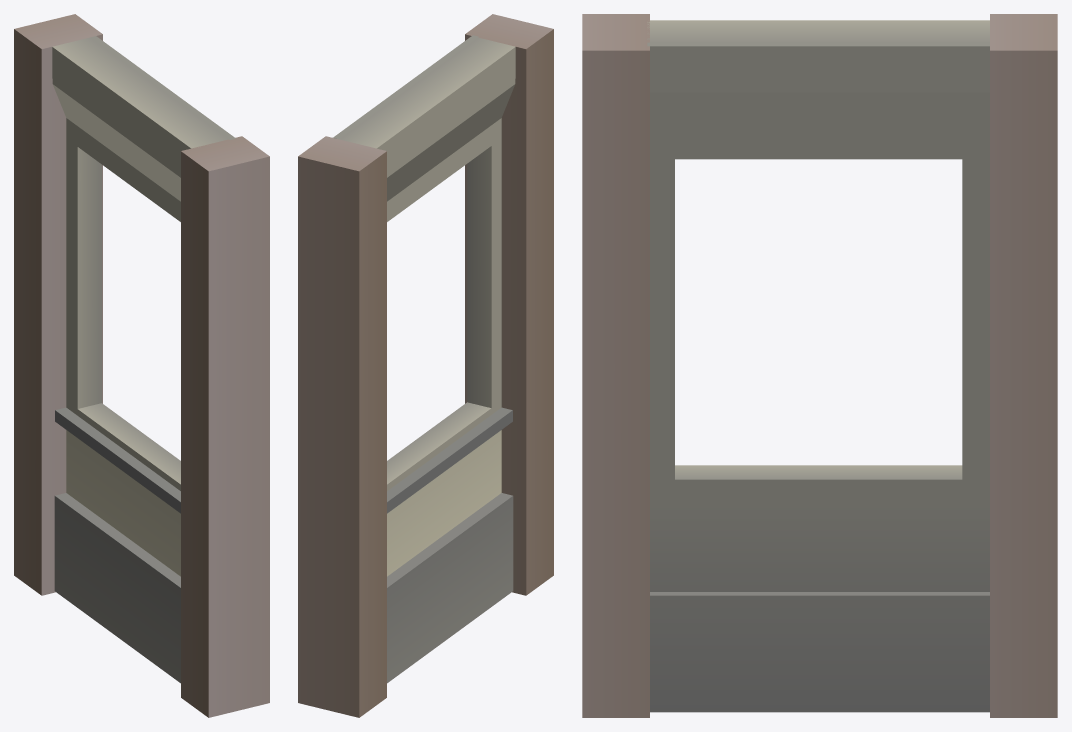
The model's file is B01_fenetre_2.fbx.
The picture shows the model from 3 angles, left to right: view 1: azimuth 30°, elevation 25°; view 2: azimuth 150°, elevation 25°; view 3: azimuth 270°, elevation 25°; orthographic projection. The views are drawn at different scales.
Visible parts, largest first — view 1: B01_fenetre_2; view 2: B01_fenetre_2; view 3: B01_fenetre_2.
Part boxes in pixels (left/top/right/bottom): B01_fenetre_2: left=14, top=14, right=269, bottom=717; B01_fenetre_2: left=298, top=14, right=553, bottom=717; B01_fenetre_2: left=582, top=14, right=1057, bottom=717.
Size of the model in its own units: 35.78 by 305 by 197.
